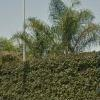Palm tree: (29, 2, 96, 55)
